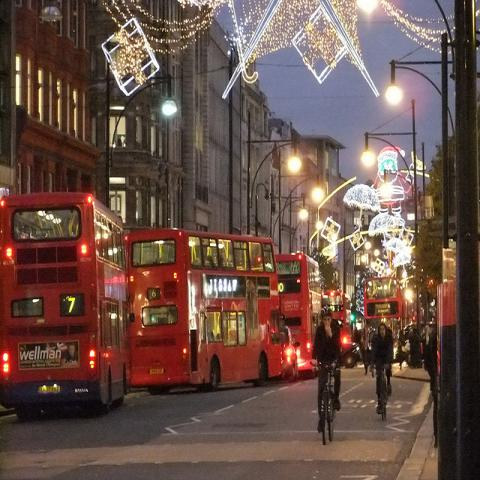bus: (4, 196, 130, 420), (125, 229, 284, 394), (275, 252, 322, 378), (364, 277, 408, 356), (322, 293, 348, 343)
